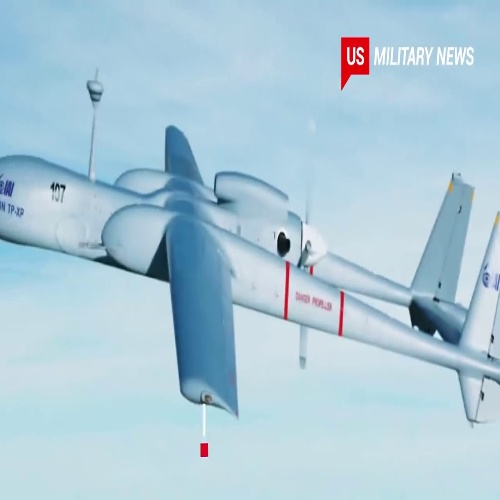uav664: (1, 63, 497, 425)
